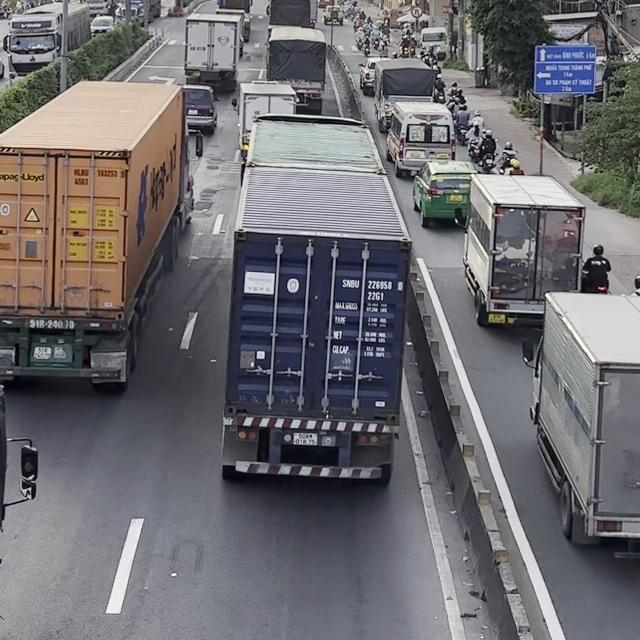car: (385, 101, 456, 178), (410, 153, 481, 228), (181, 83, 218, 133)
motorcycle: (479, 136, 498, 172)
truck: (220, 113, 412, 486), (0, 78, 204, 390), (521, 284, 639, 561), (454, 173, 586, 327), (231, 79, 300, 160), (264, 28, 327, 114), (183, 11, 244, 92), (373, 60, 438, 132), (215, 0, 253, 41), (266, 0, 314, 28)
